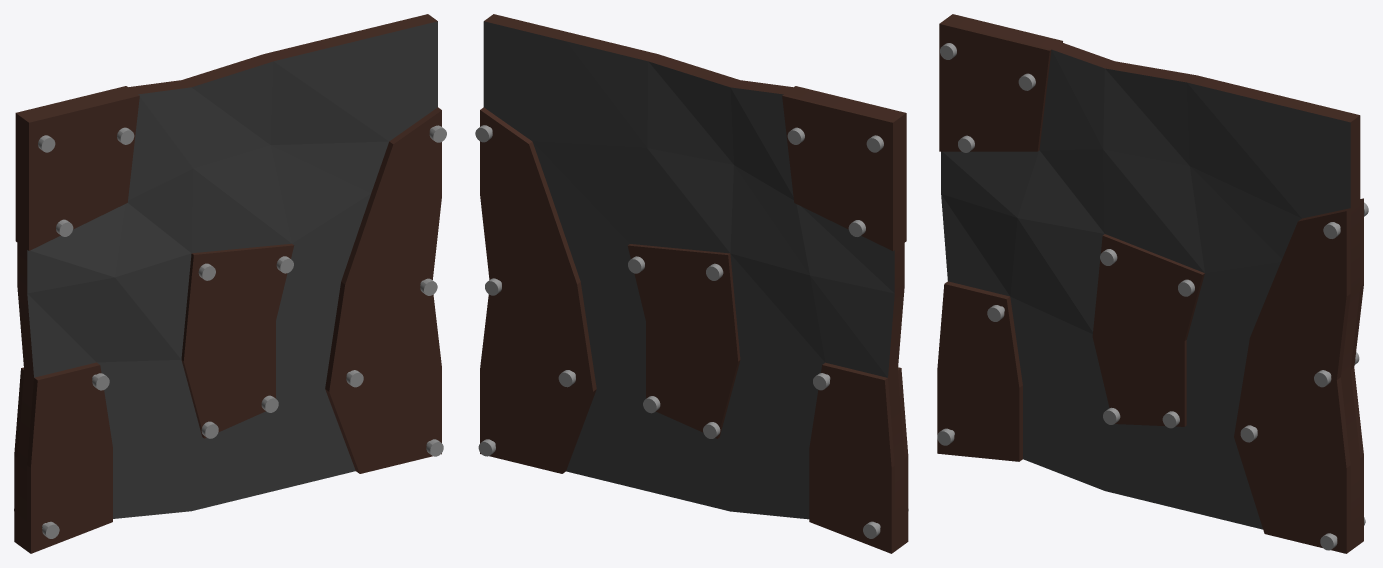
The model's file is Parete.fbx.
3 views of the same model, side by side, from view 1: azimuth 30°, elevation 25°; view 2: azimuth 150°, elevation 25°; view 3: azimuth 330°, elevation 25° (orthographic).
Parts seen in each view (by area): view 1: Parete; view 2: Parete; view 3: Parete.
Part boxes in pixels (box(x1,y1,x2,y2)): Parete: box(14, 14, 446, 553); Parete: box(475, 14, 908, 553); Parete: box(937, 14, 1368, 553).
Size of the model in its own units: 198 by 198 by 26.69.
